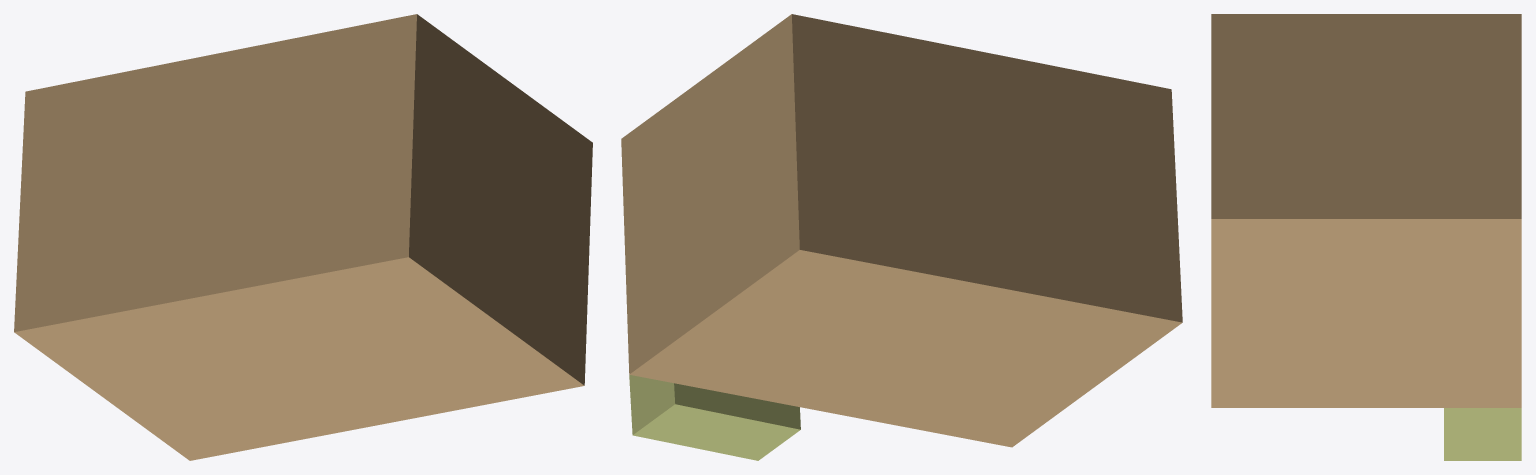
3 views of the same model, side by side, from view 1: azimuth 30°, elevation 25°; view 2: azimuth 150°, elevation 25°; view 3: azimuth 270°, elevation 25° (orthographic). The views are drawn at different scales.
Visible parts, largest first — view 1: 0_0_3_1_3_2_3_3_0; view 2: 0_0_3_1_3_2_3_3_0; view 3: 0_0_3_1_3_2_3_3_0.
Part boxes in pixels (x1,y1,x2,y2): 0_0_3_1_3_2_3_3_0: (14, 14, 592, 460); 0_0_3_1_3_2_3_3_0: (621, 14, 1182, 460); 0_0_3_1_3_2_3_3_0: (1211, 14, 1521, 460).
Bounding box in the file's own units: 31.75 × 24.15 × 24.
